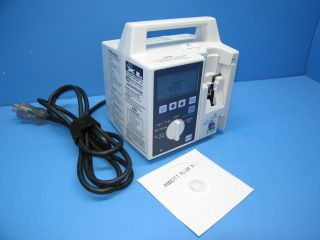plumxl1: (119, 24, 234, 136)
